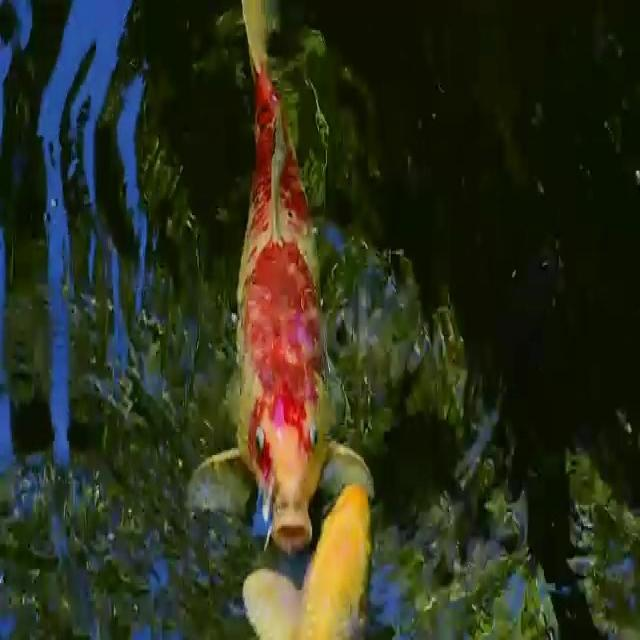fish: (194, 0, 367, 544), (240, 484, 376, 640)
